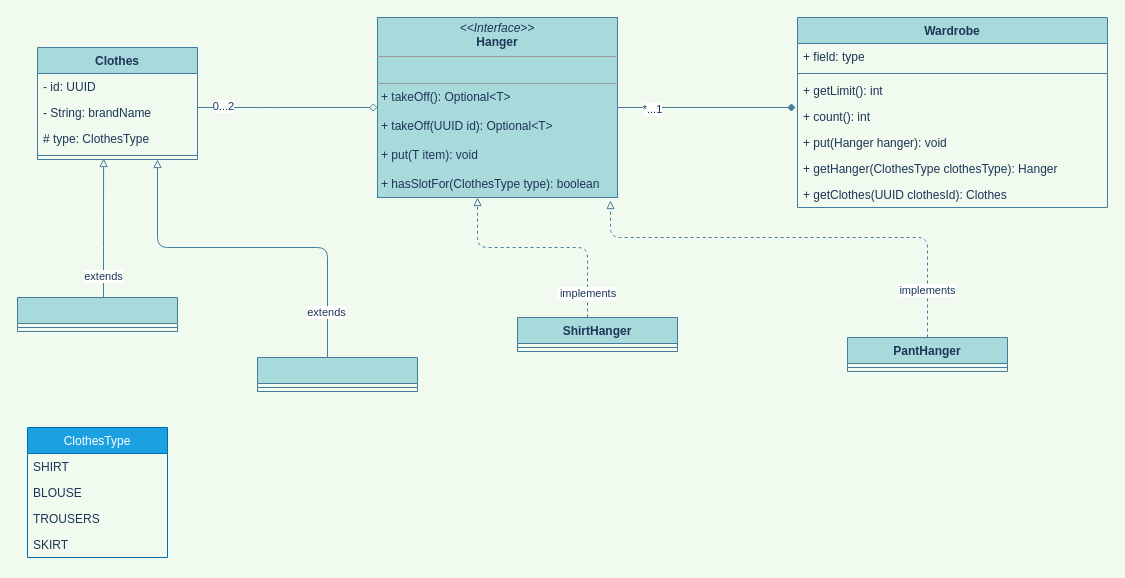
Some shapes in this 1125 by 578 pixel diagram are drawn without their labels. The shapes that lost their labels are listed below. From the top down, each one's centre as x and y in pixels, then its label:
point 97,314: UpperClothes
point 337,374: LowerClothes
